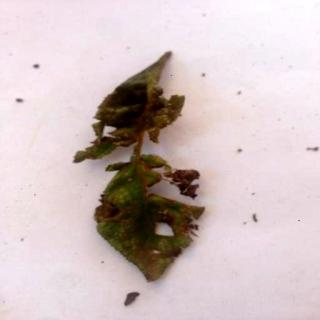Brown Blight: (73, 51, 206, 305)
